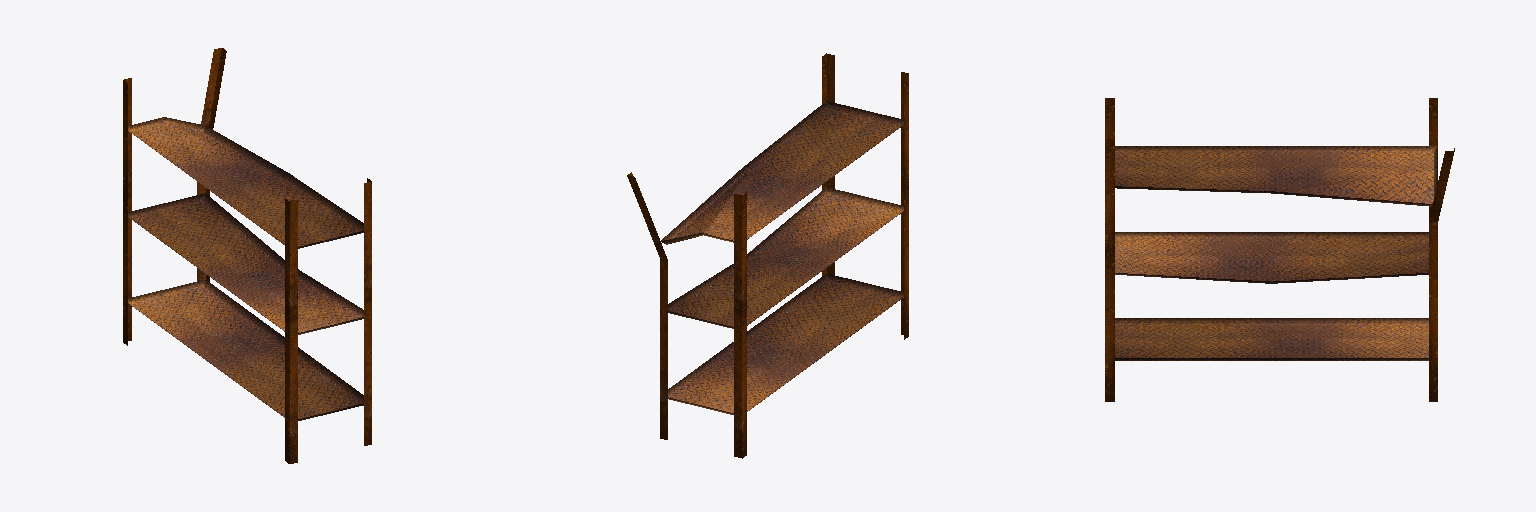
The picture shows the model from 3 angles: view 1: azimuth 30°, elevation 25°; view 2: azimuth 150°, elevation 25°; view 3: azimuth 270°, elevation 25°; orthographic projection.
Parts seen in each view (by area): view 1: Rack0; view 2: Rack0; view 3: Rack0.
Part boxes in pixels (x1,y1,x2,y2): Rack0: (123,48,371,463); Rack0: (627,53,908,458); Rack0: (1105,98,1454,401).
Bounding box in the file's own units: 2.6 × 6.1 × 7.35.
Materials: 1 (1 with a texture image).